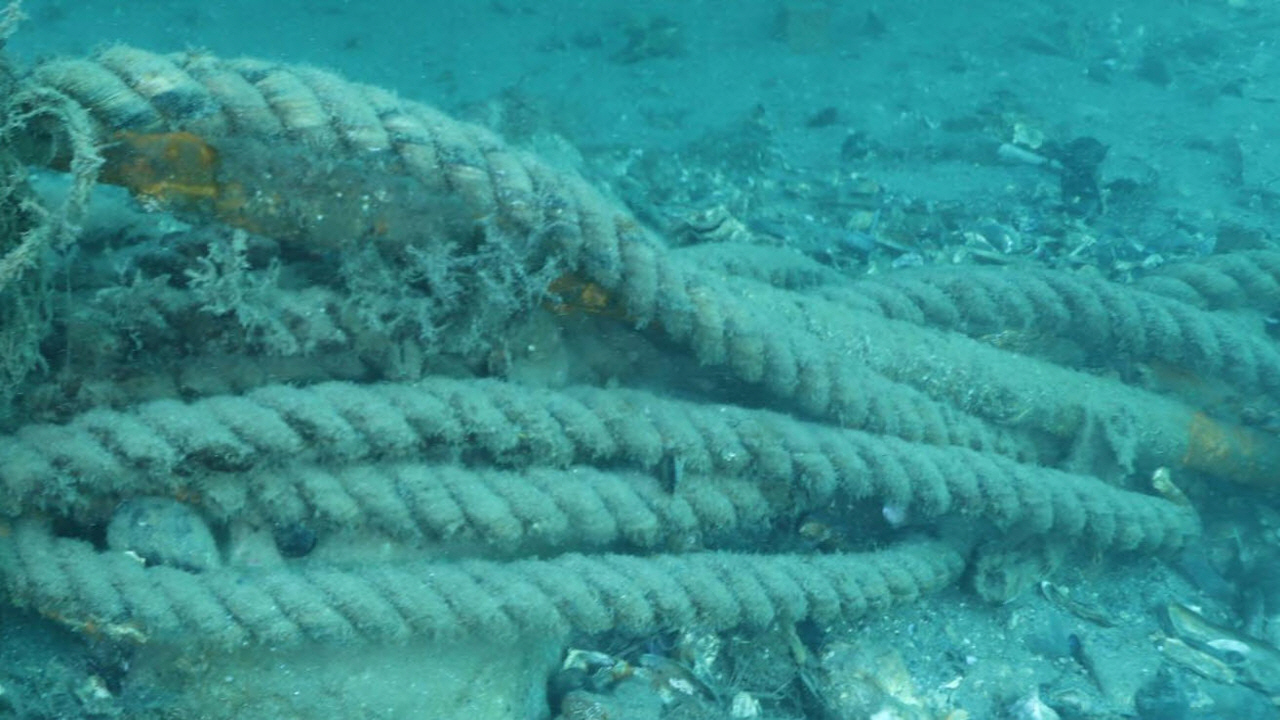bundle of ropes: (0, 42, 1280, 653)
